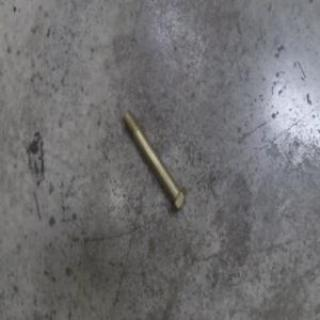Bolttrack_idkeyframe: (121, 106, 188, 213)
